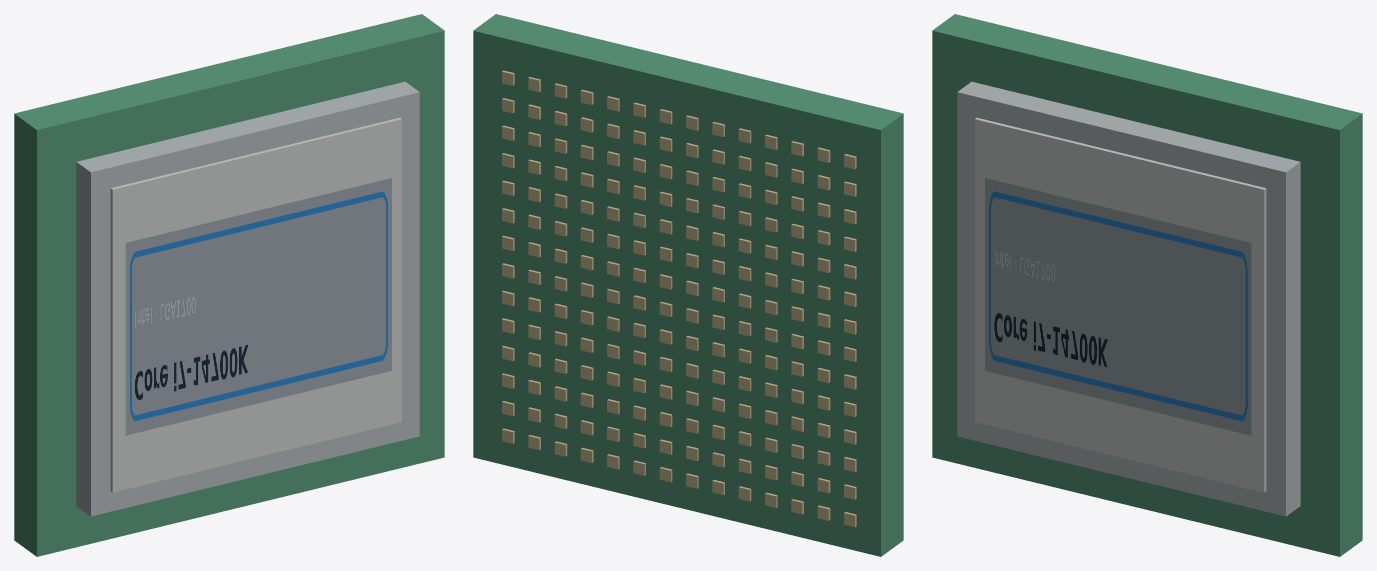
Rendered from cpu_intel_core_i7_14700k.glb.
3 views of the same model, side by side, from view 1: azimuth 30°, elevation 25°; view 2: azimuth 150°, elevation 25°; view 3: azimuth 330°, elevation 25° (orthographic).
Parts seen in each view (by area): view 1: n1, n0, n4, n3; view 2: n1, n2; view 3: n1, n0, n4, n3.
Part boxes in pixels (left/top/right/bottom): n1: left=14, top=14, right=444, bottom=556; n0: left=125, top=178, right=391, bottom=435; n4: left=110, top=117, right=401, bottom=492; n3: left=76, top=81, right=419, bottom=516; n1: left=473, top=14, right=903, bottom=556; n2: left=502, top=70, right=856, bottom=527; n1: left=932, top=14, right=1362, bottom=556; n0: left=985, top=178, right=1251, bottom=435; n4: left=975, top=117, right=1266, bottom=492; n3: left=957, top=81, right=1300, bottom=516.
Bounding box in the file's own units: 0.62 × 0.62 × 0.112.
Materials: 1 (1 with a texture image).
